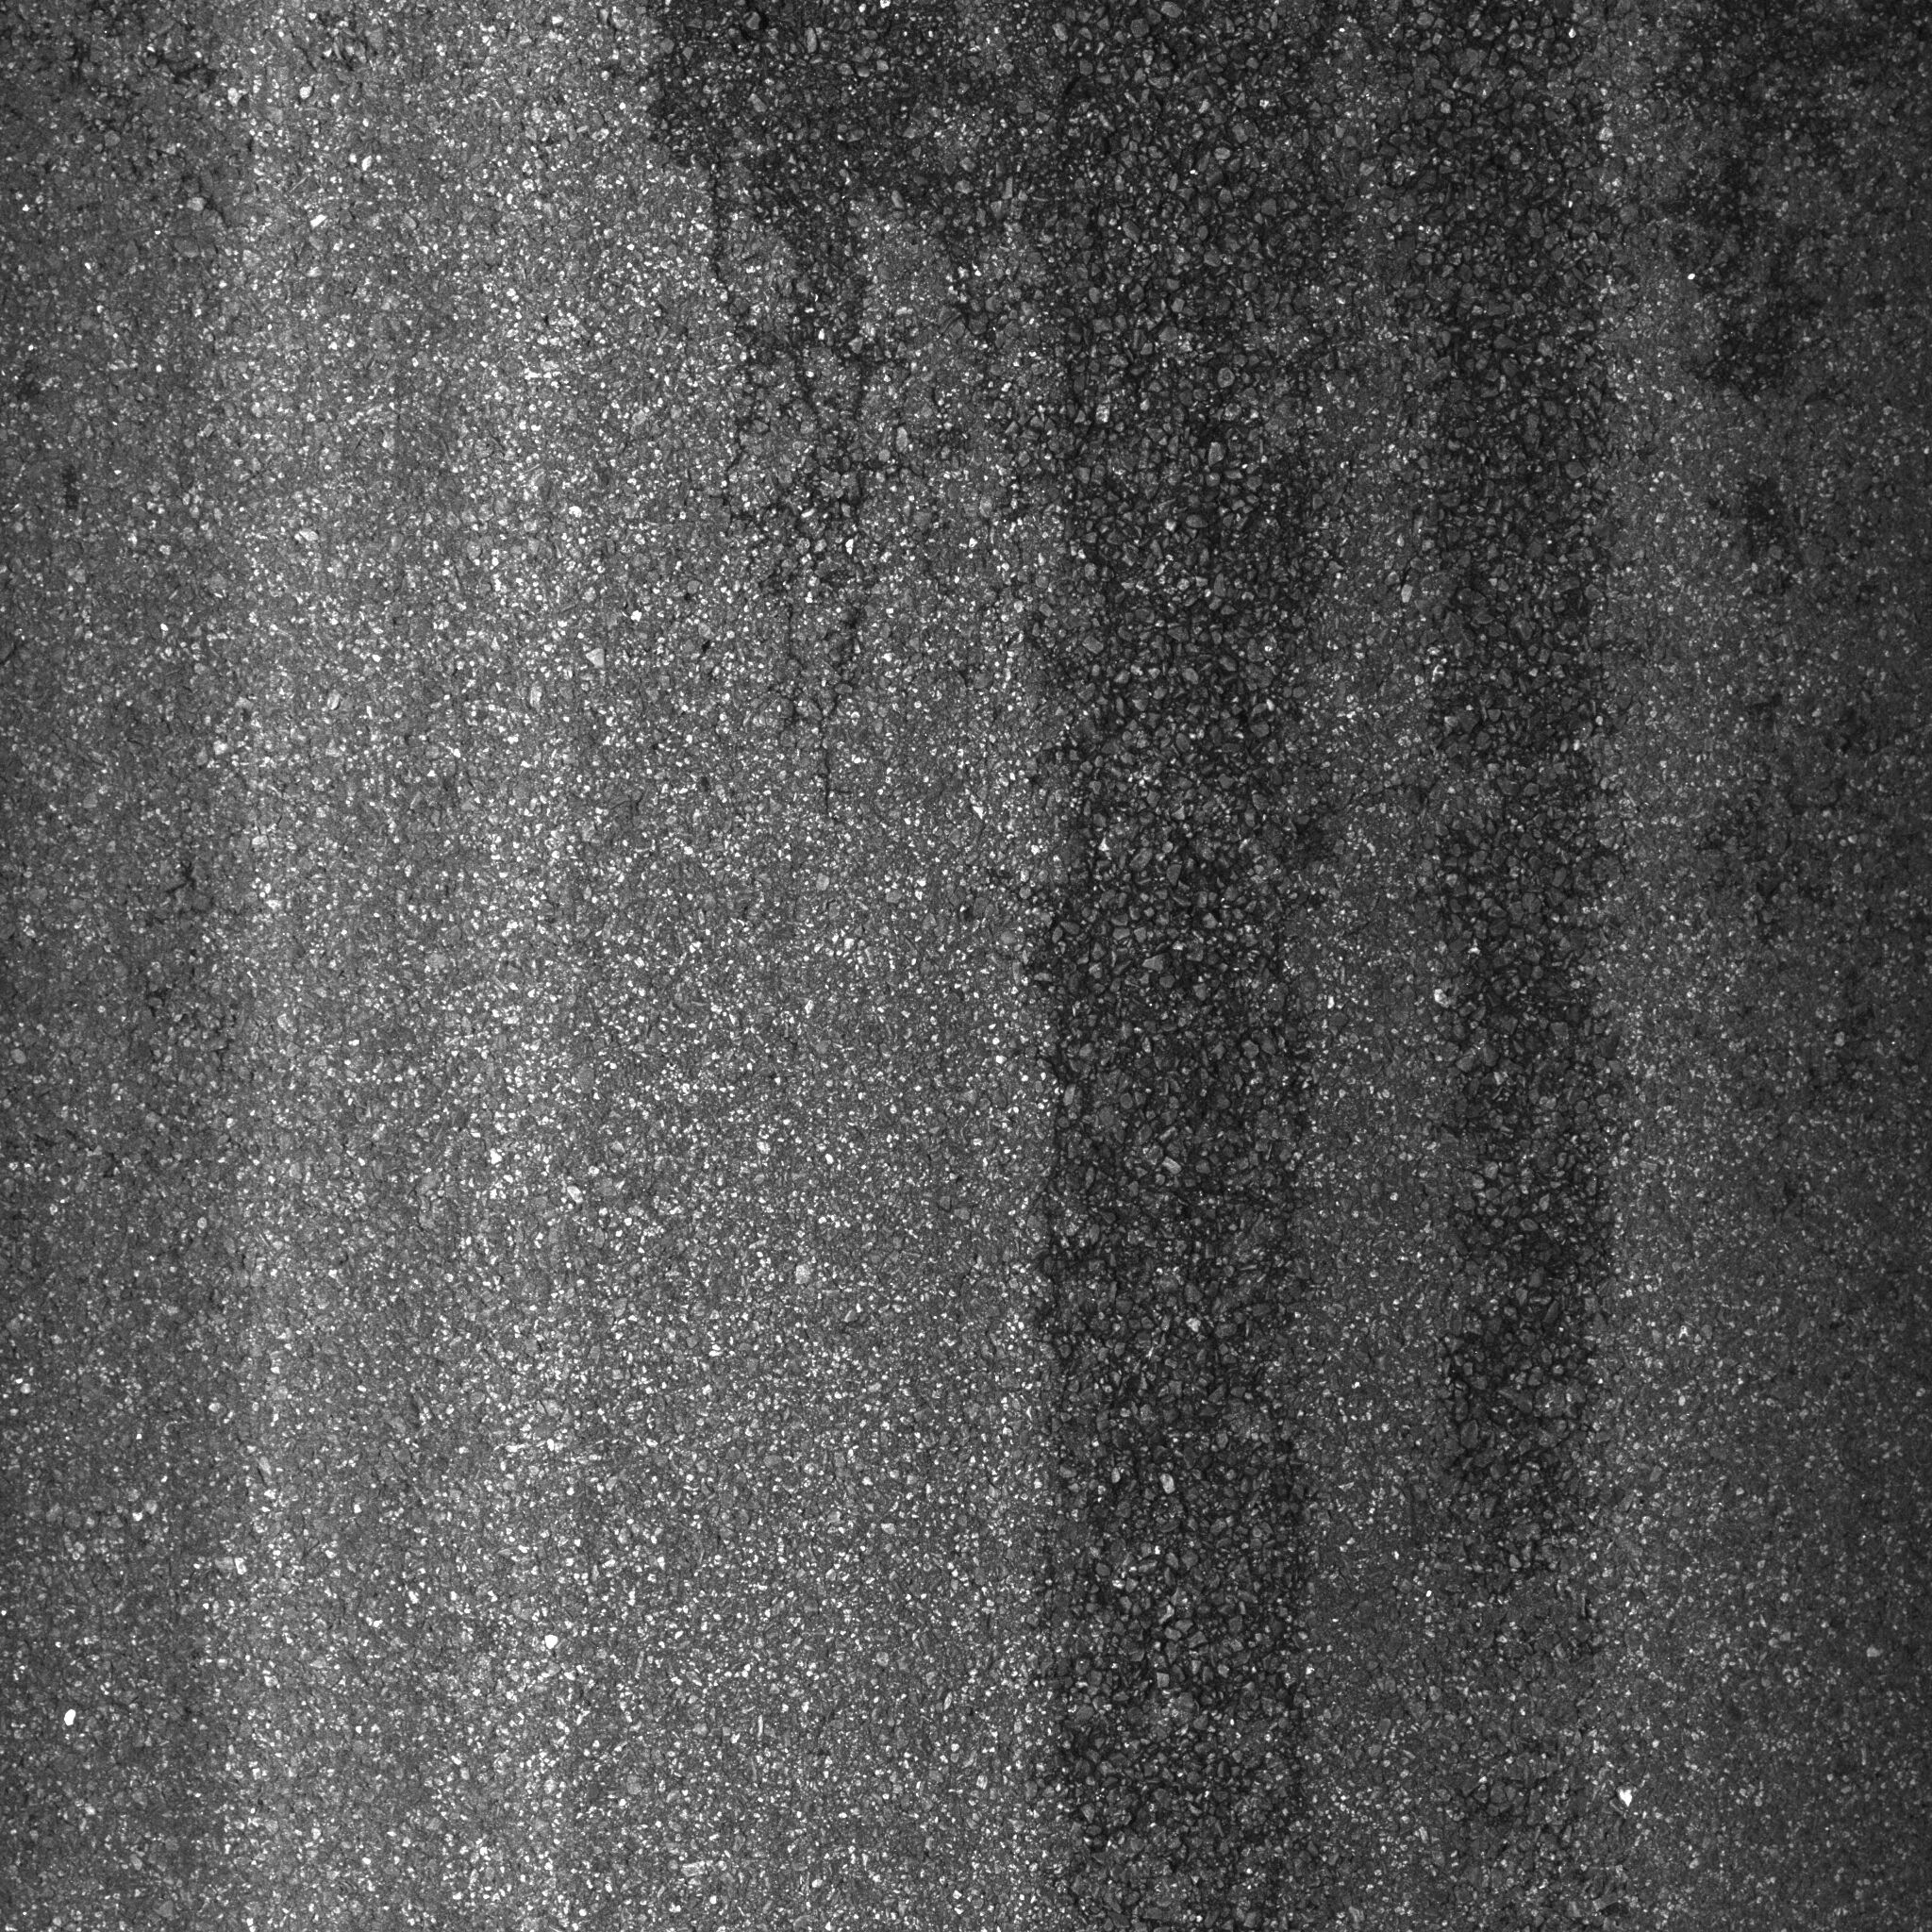alligator: (612, 2, 1927, 1573)
